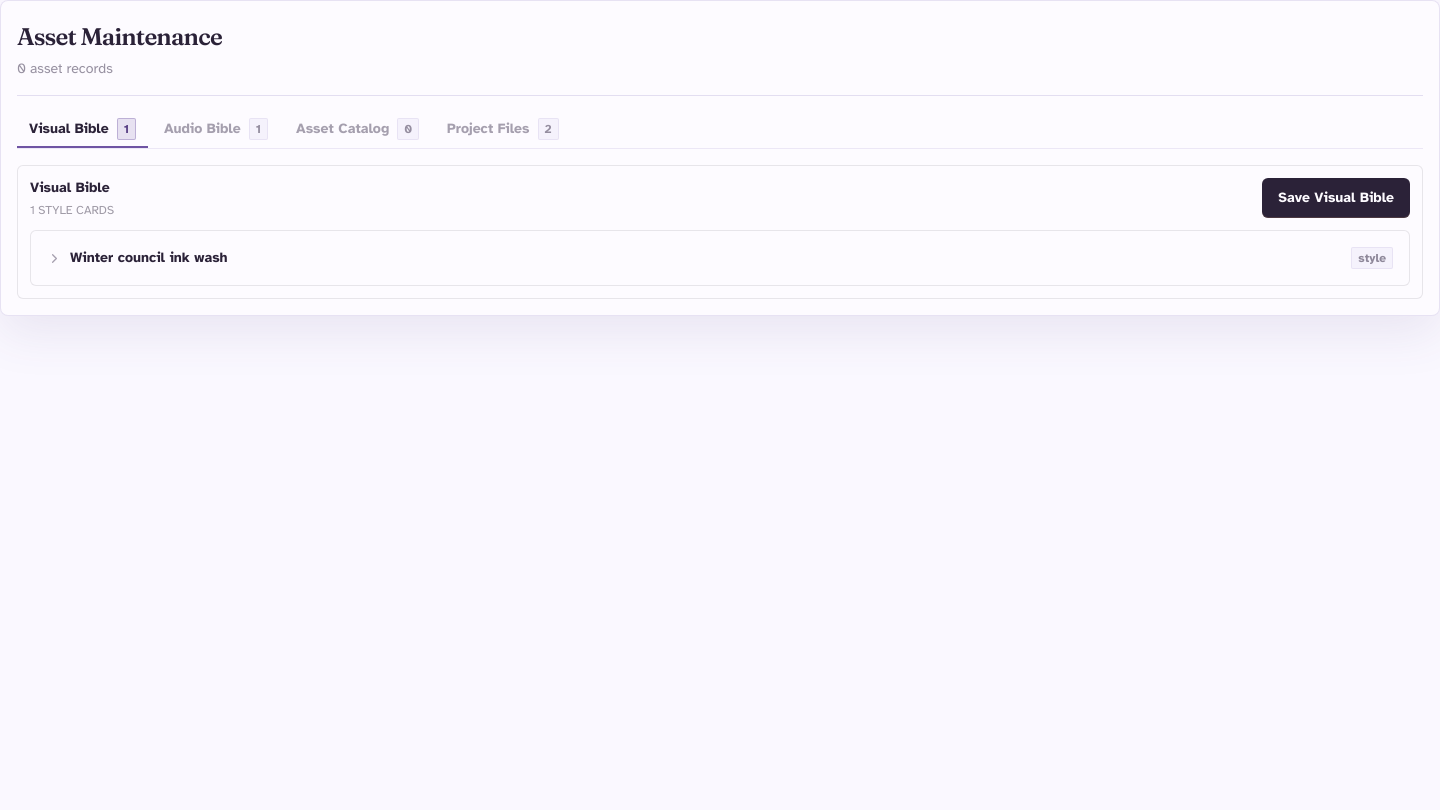
Test: AssetMaintenanceView › renders metrics: source files, visual cards, audio cards
Click the tab "Asset Catalog 0": point(358, 130) [284, 112, 431, 148]
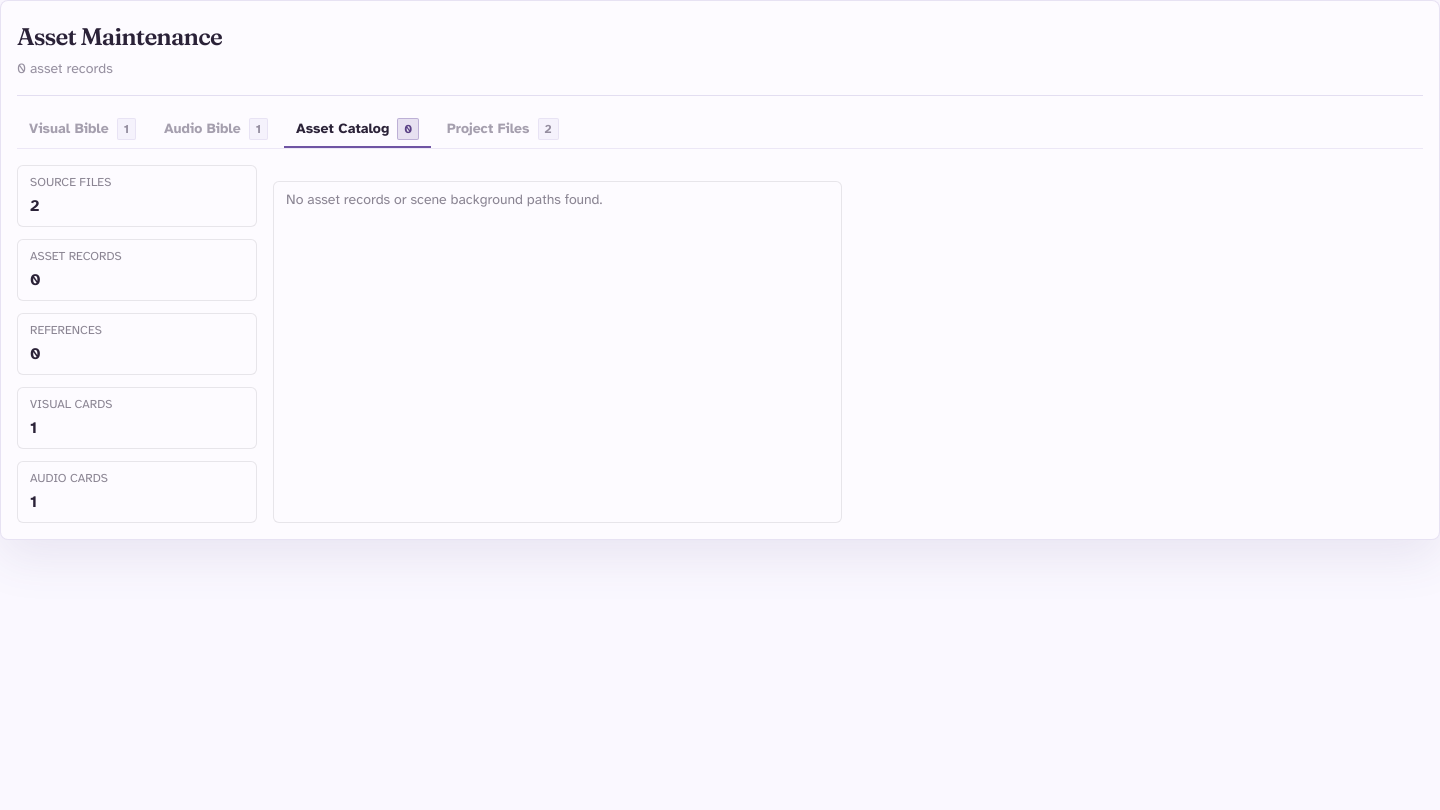
expect the text "Source files" is shown: met, box [30, 175, 111, 189]
expect the text "Visual cards" is shown: met, box [30, 397, 112, 411]
expect the text "Audio cards" is shown: met, box [30, 471, 108, 485]
